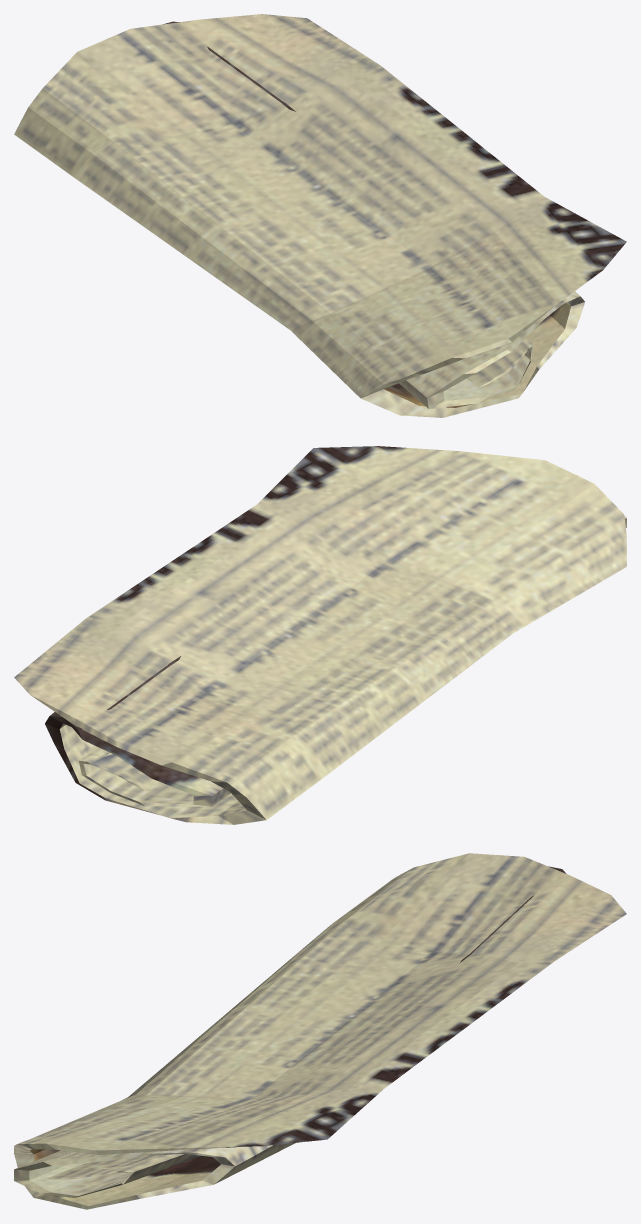
File: Newspaper.fbx
3 renders of one model, top to bottom at view 1: azimuth 30°, elevation 25°; view 2: azimuth 150°, elevation 25°; view 3: azimuth 330°, elevation 25°, orthographic.
Parts seen in each view (by area): view 1: NewsPaperRoll; view 2: NewsPaperRoll; view 3: NewsPaperRoll.
Boxes of the visible parts, box(x1,y1,x2,y2) form: NewsPaperRoll: box(14, 14, 626, 417); NewsPaperRoll: box(14, 446, 626, 824); NewsPaperRoll: box(14, 853, 626, 1209).
Size of the model in its own units: 25.54 by 7.89 by 65.63.
